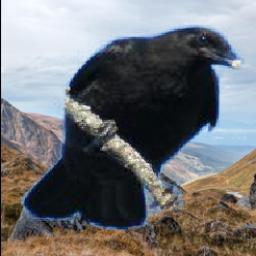Crow: (22, 26, 246, 231)
